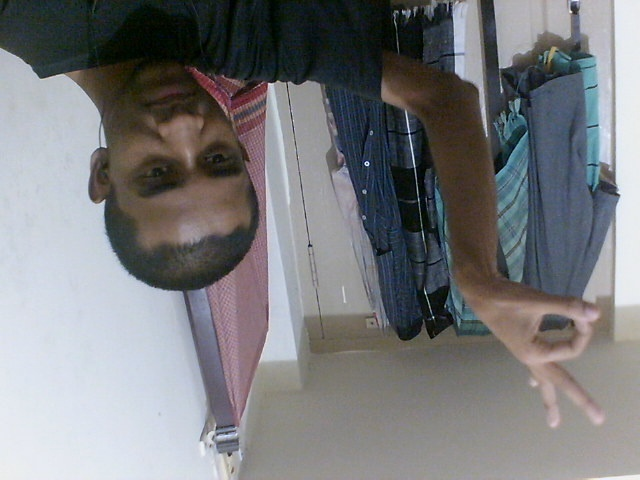hand: (445, 263, 610, 438)
